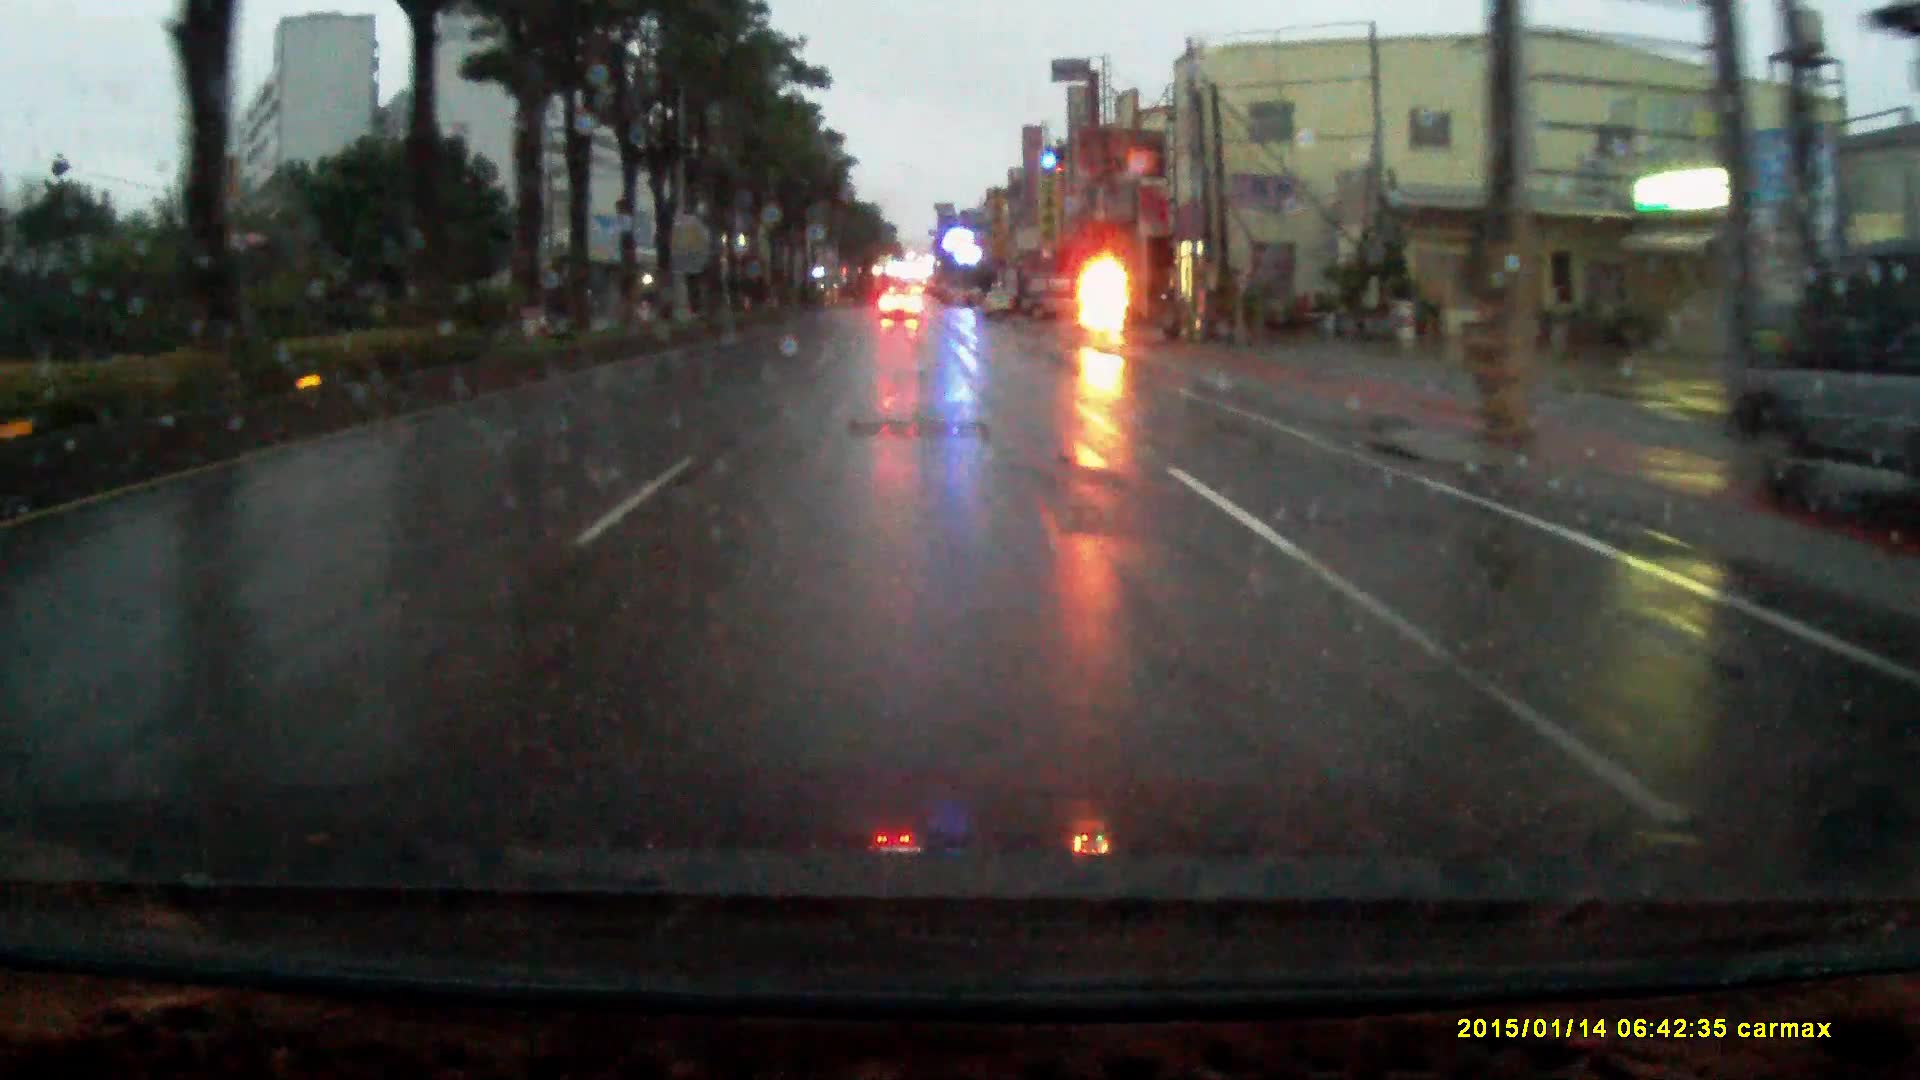vehicle: (1021, 280, 1095, 324), (880, 291, 926, 328)
